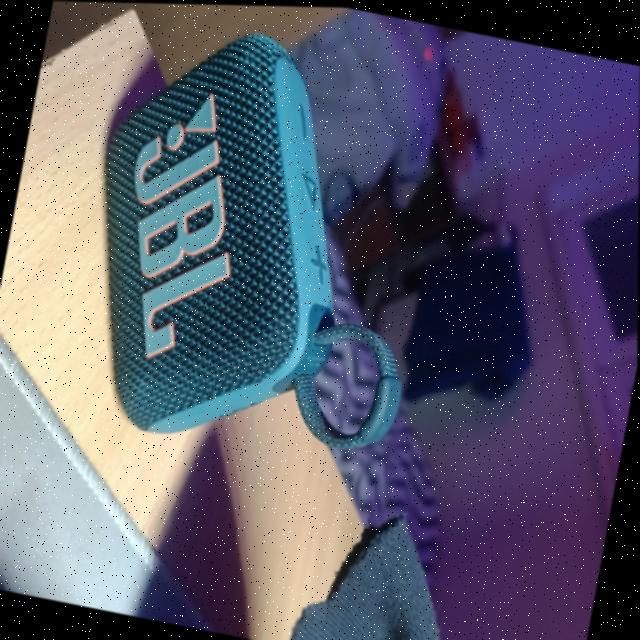column JBL: (71, 6, 462, 482)
